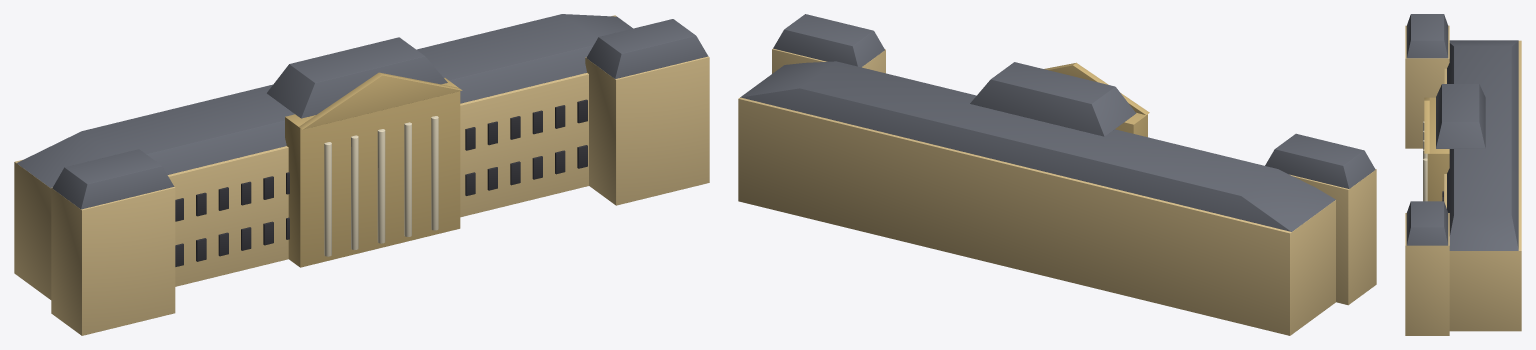
File: marco_wurzburg.glb
The picture shows the model from 3 angles, left to right: view 1: azimuth 30°, elevation 25°; view 2: azimuth 150°, elevation 25°; view 3: azimuth 270°, elevation 25°; orthographic projection. The views are drawn at different scales.
Visible parts, largest first — view 1: marco_wurzburg; view 2: marco_wurzburg; view 3: marco_wurzburg.
Part boxes in pixels (x1,y1,x2,y2): marco_wurzburg: (14,14,709,335); marco_wurzburg: (738,14,1376,335); marco_wurzburg: (1405,14,1521,335).
Size of the model in its own units: 94 by 25 by 21.
